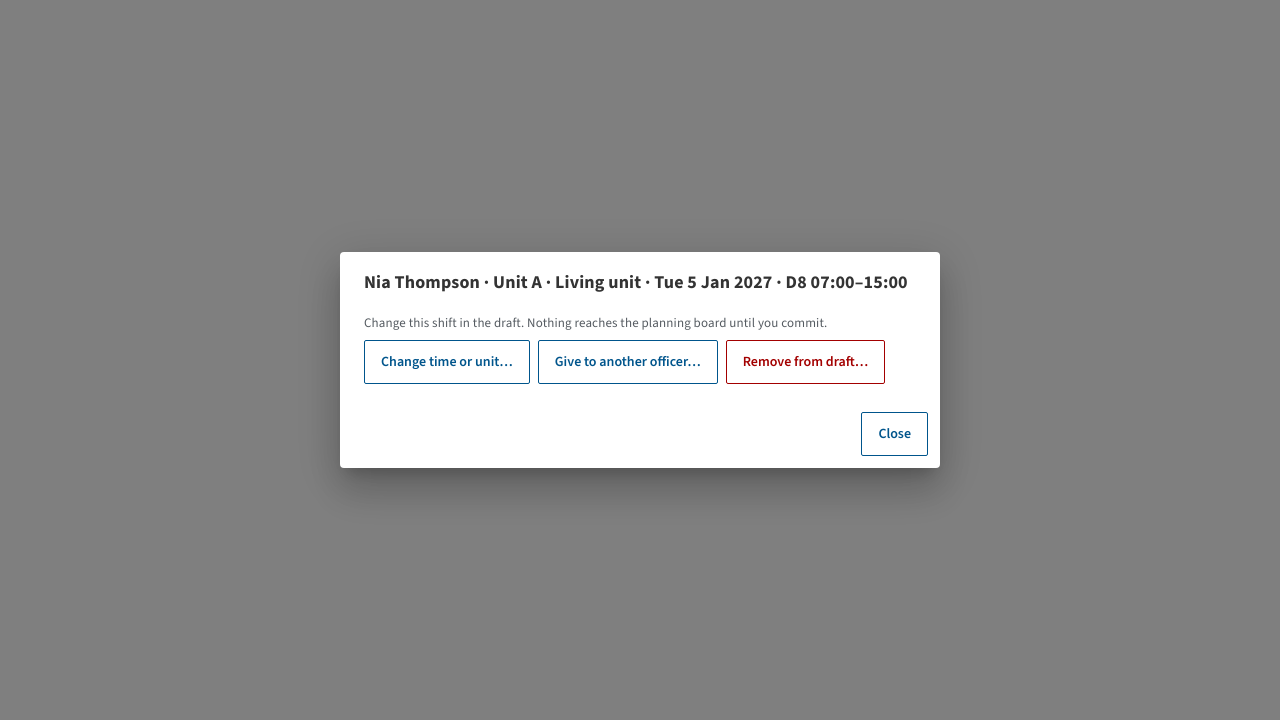
Test: the draft shift dialog › removes a shift without asking for a reason
The image size is (1280, 720).
Later steps or results of the test are not shown.
Click the button "Remove from draft…" at (806, 362), box [726,340,885,384]
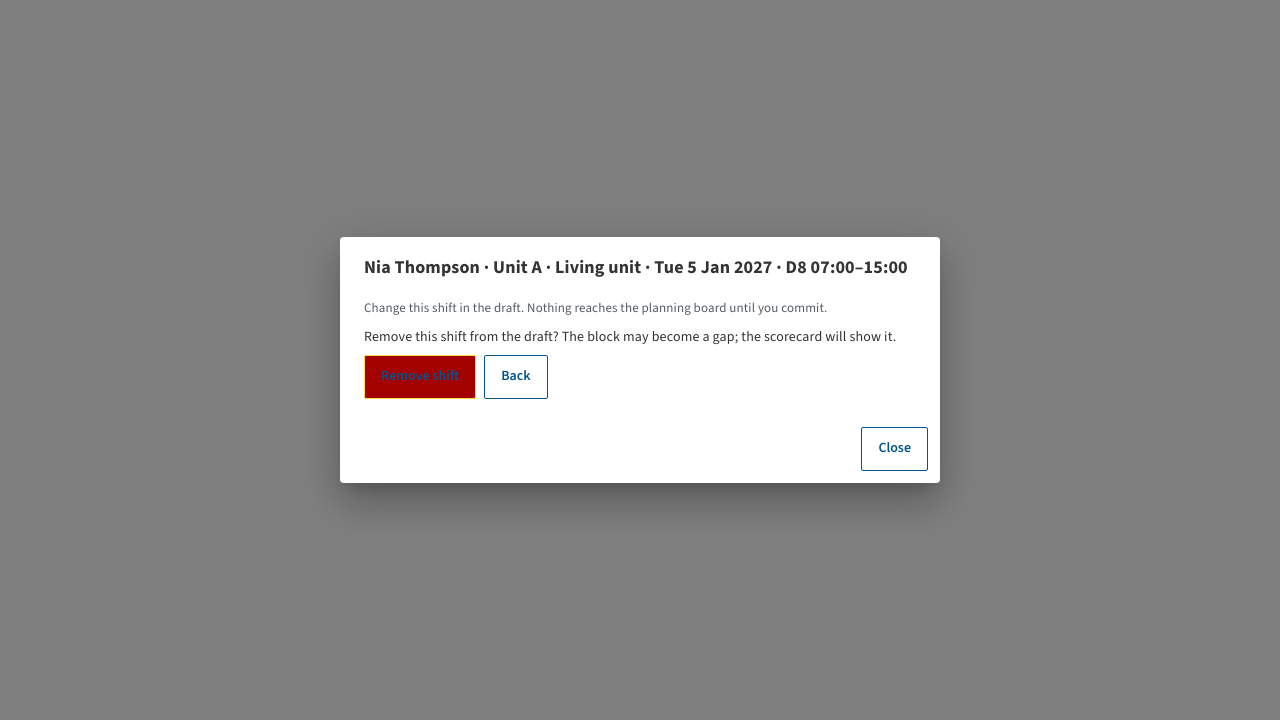
Expected: the text "Remove this shift from the draft? The block may become a gap; the scorecard will show it." is shown, [364,327,896,346]
